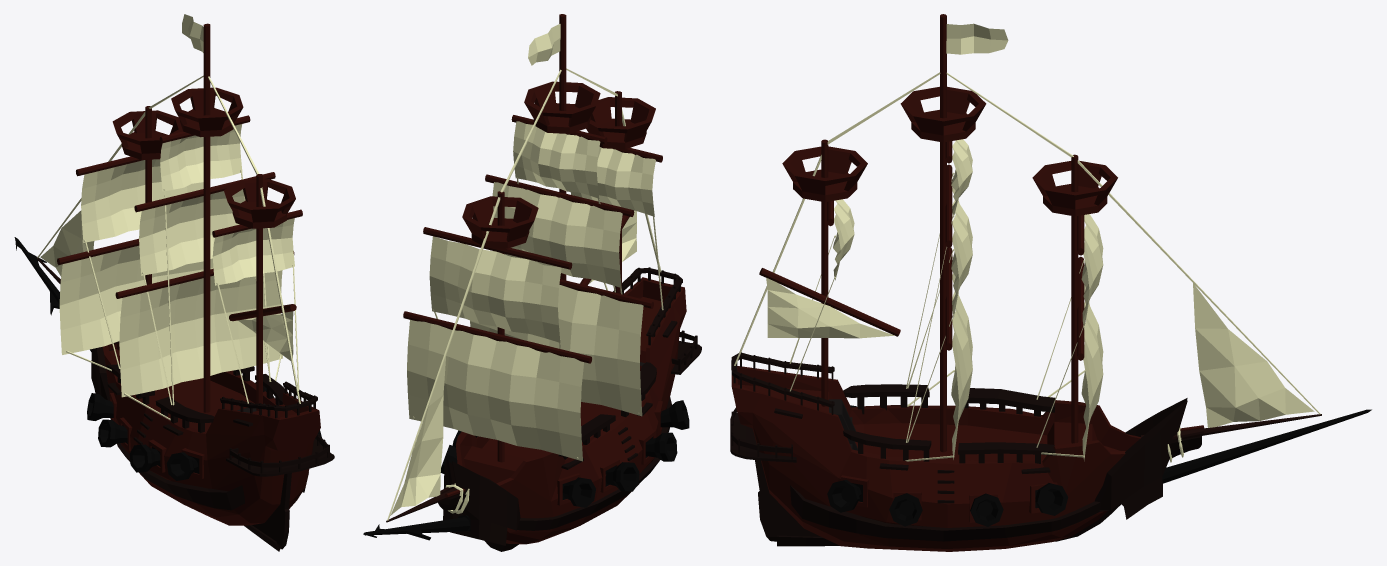
The model's file is ship02.FBX.
3 views of the same model, side by side, from view 1: azimuth 30°, elevation 25°; view 2: azimuth 150°, elevation 25°; view 3: azimuth 270°, elevation 25° (orthographic). The views are drawn at different scales.
Visible parts, largest first — view 1: Plane.002; view 2: Plane.002; view 3: Plane.002.
Part boxes in pixels (<box>): Plane.002: <box>14,14,334,551</box>; Plane.002: <box>363,14,701,551</box>; Plane.002: <box>730,14,1371,551</box>.
Bounding box in the file's own units: 519 × 1323 × 1450.
